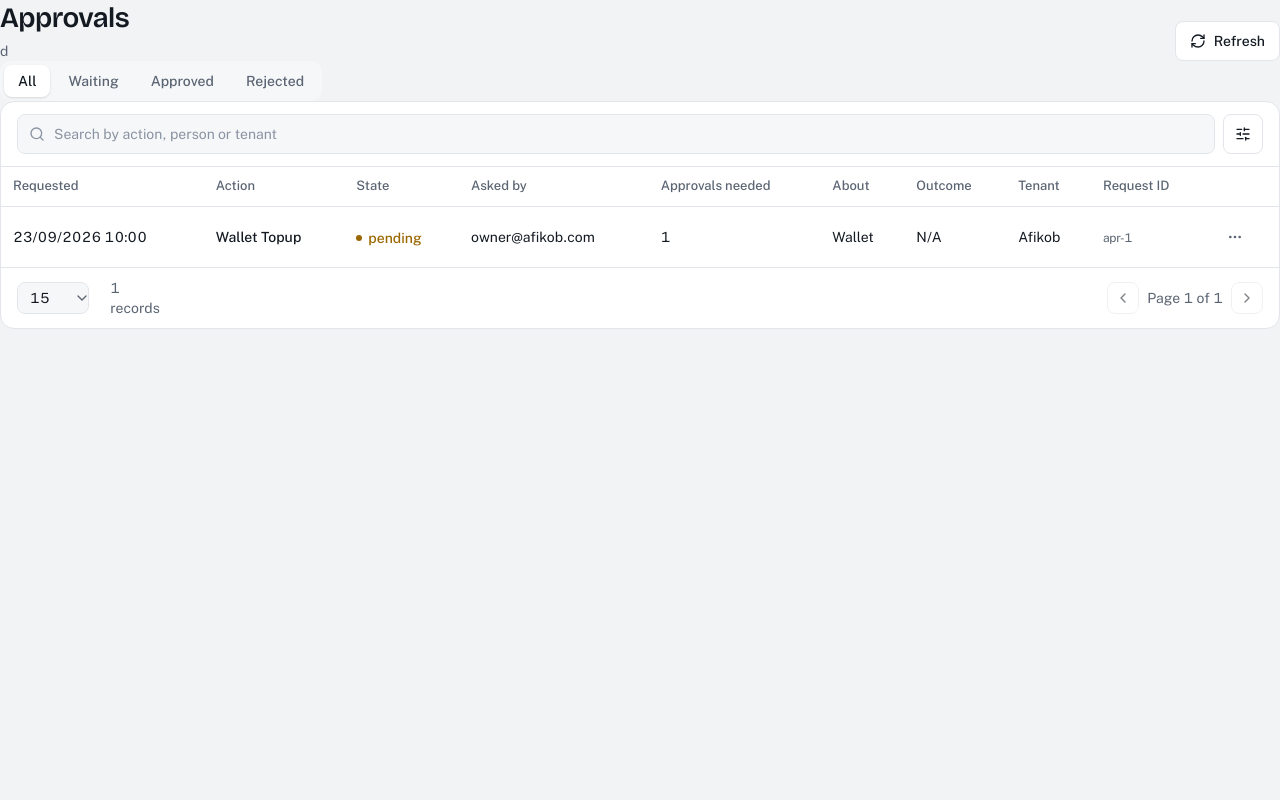
Scenario: Approvals inbox › will not reject without a reason
What coordinates should you click on to do the following:
click the button named "Request actions"
I would click on:
 (1235, 237)
Its box is [1219,221,1251,253].
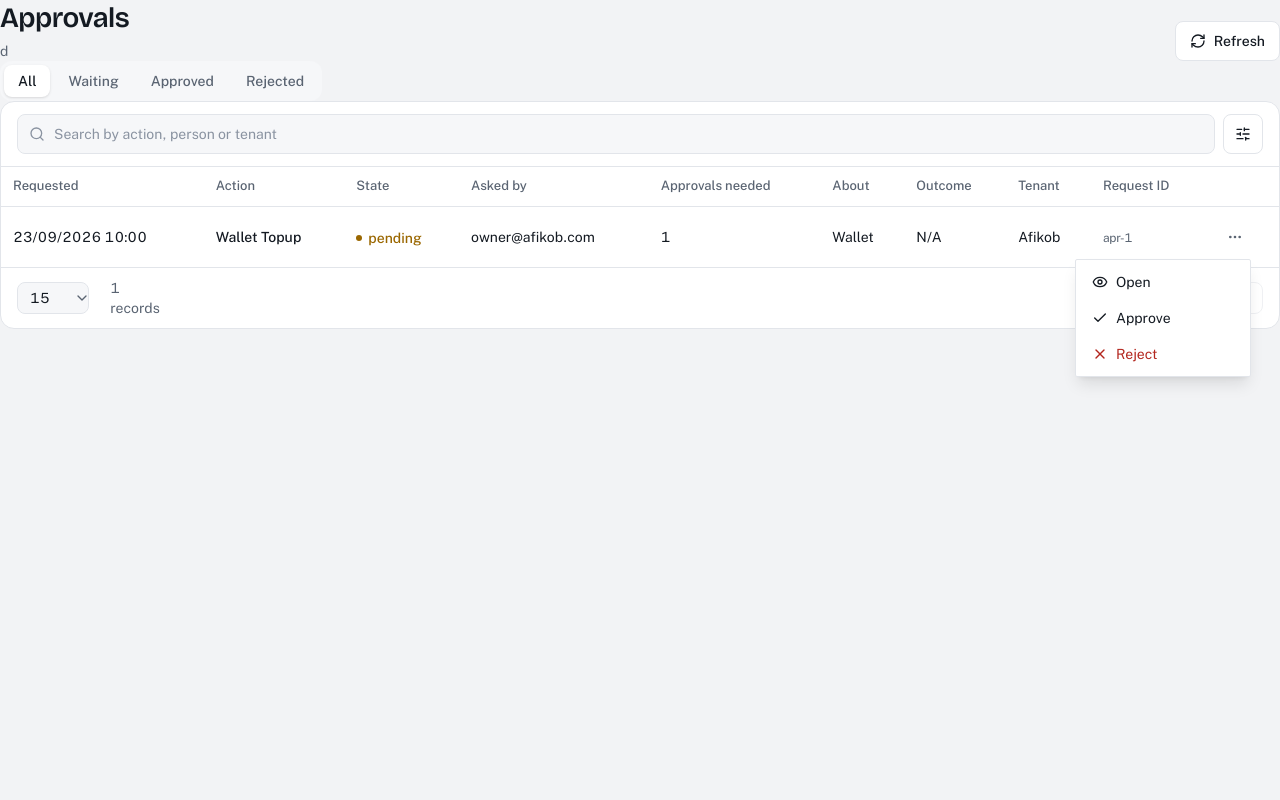
What coordinates should you click on to do the following:
click the menu item "Reject"
I would click on:
 (1125, 354)
Its box is [1092,346,1158,362].
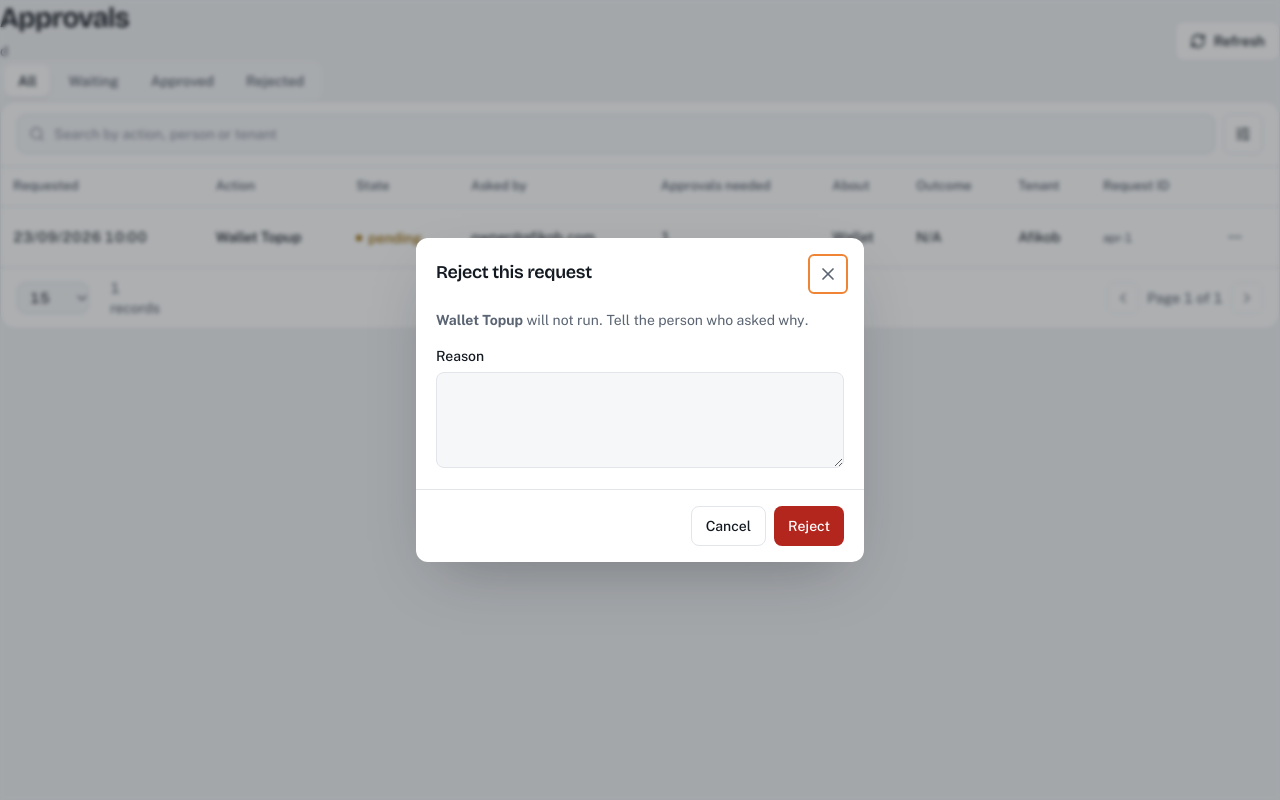
What coordinates should you click on to do the following:
click the button "Reject"
I would click on:
 (809, 526)
Its box is [774,506,844,546].
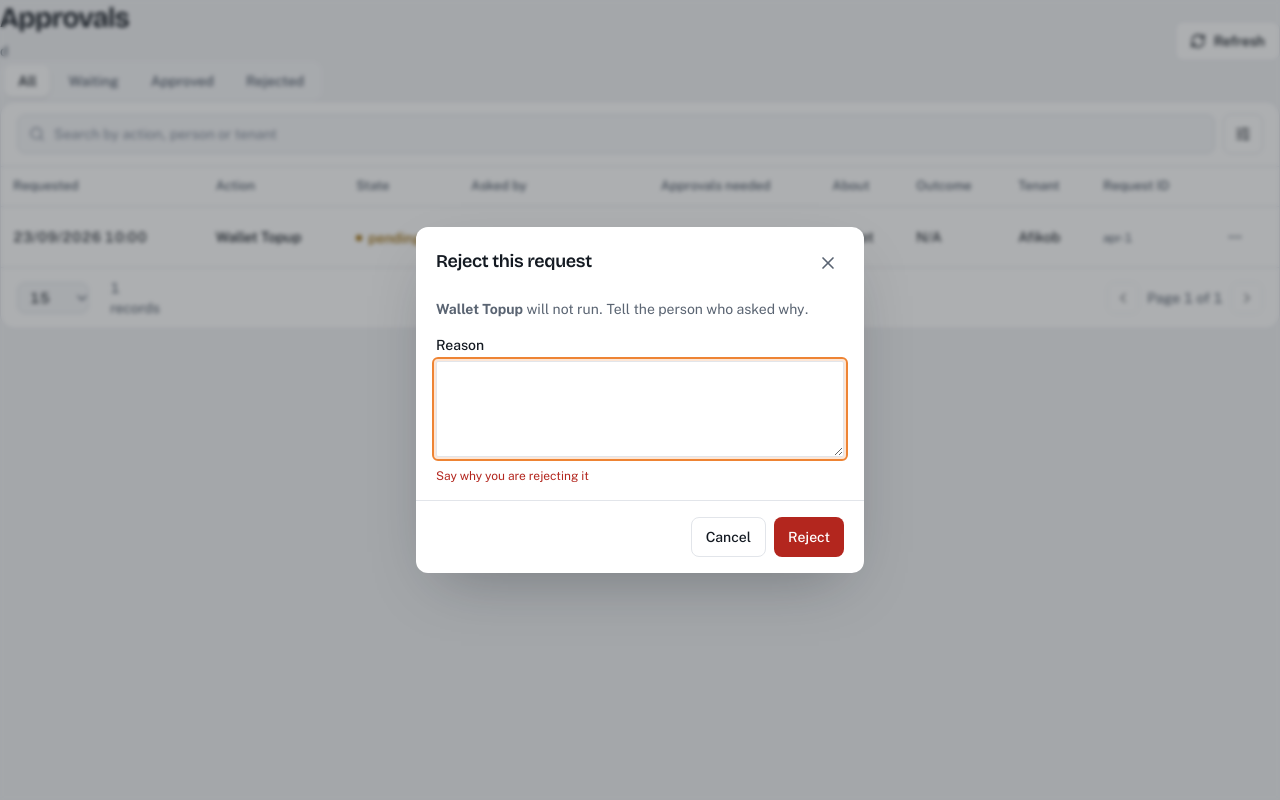
Expected: the text "Say why you are rejecting it" is shown, [436,469,589,483]
